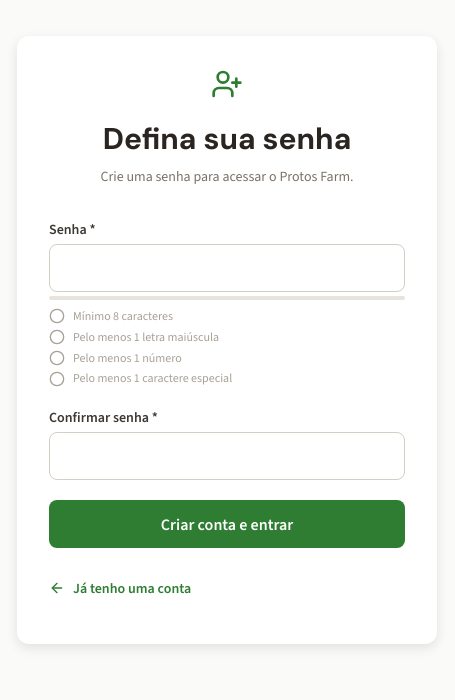
Scenario: AcceptInvitePage › shows error from API on failure
Type "StrongPass1!" into the password field labelled "Senha *" at (227, 268), box [49,244,405,292]
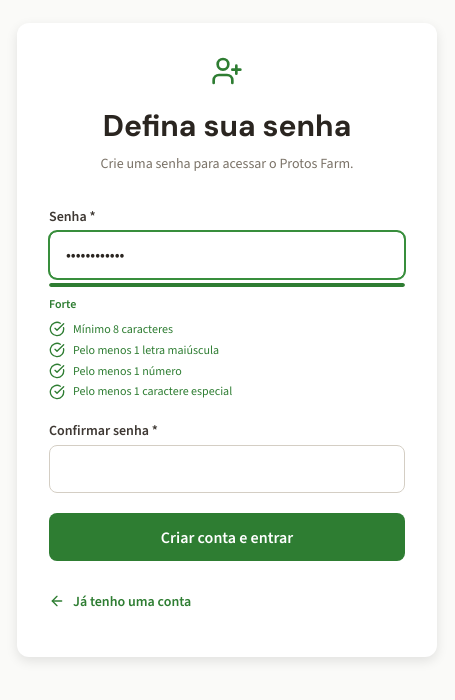
Type "StrongPass1!" into the password field labelled "Confirmar senha *" at (227, 469), box [49,445,405,493]
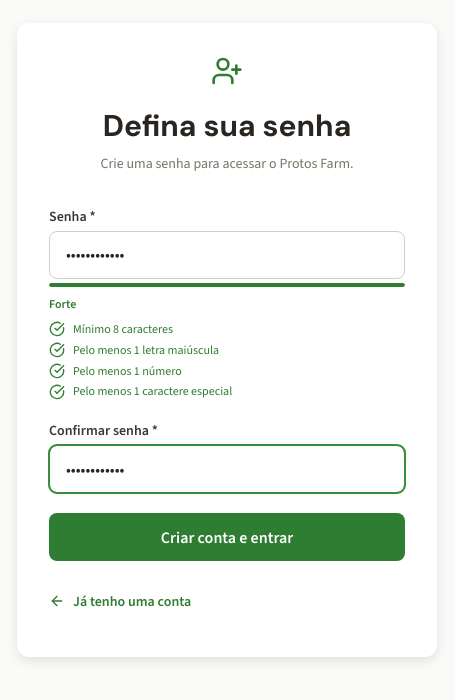
Click the button "Criar conta e entrar" at (227, 537), box [49,513,405,561]
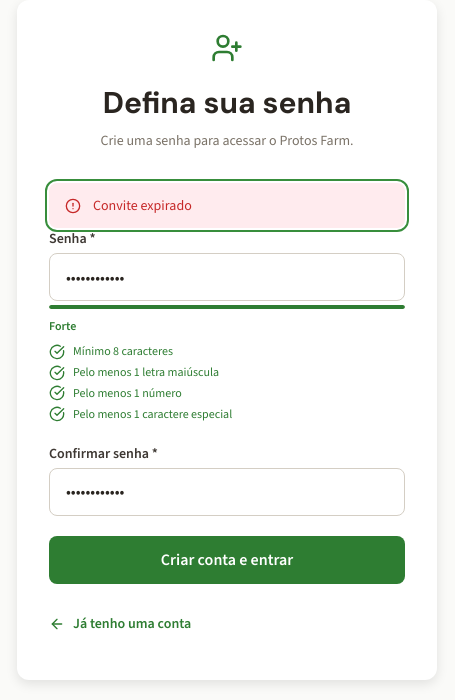
Now the message reads "Convite expirado", box [93,196,192,215]
